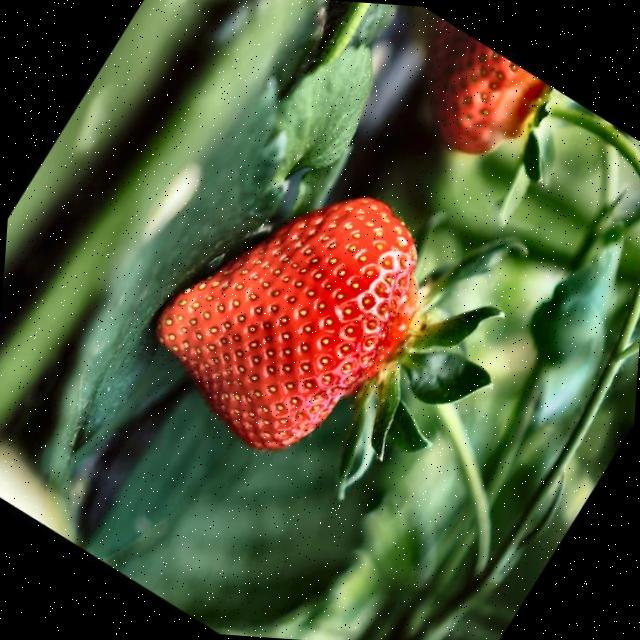strawberry: (155, 198, 416, 449), (427, 20, 549, 154)
